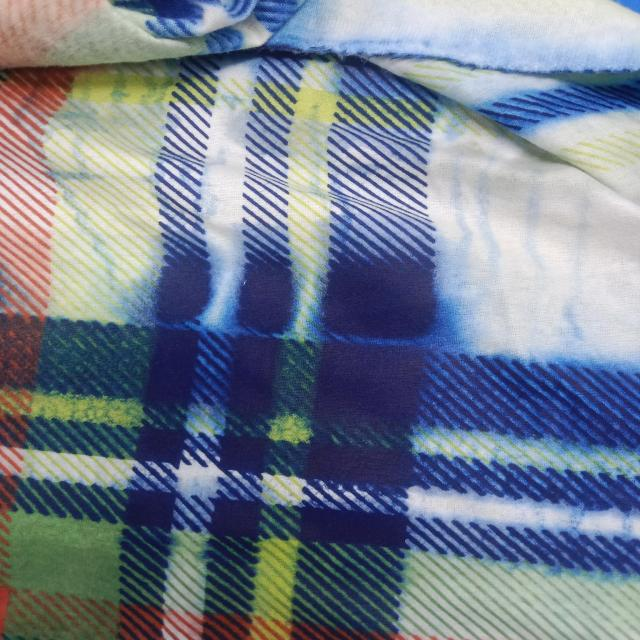baekra: (79, 212, 524, 621)
